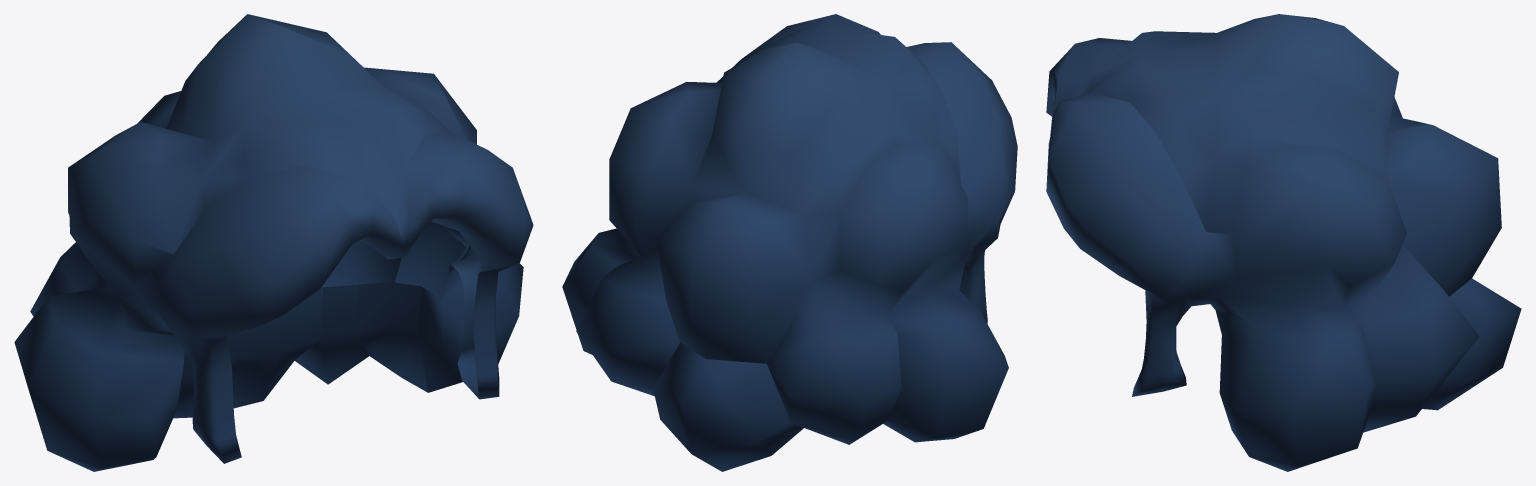
Rendered from Hair_Blue_17.fbx.
The picture shows the model from 3 angles, left to right: view 1: azimuth 30°, elevation 25°; view 2: azimuth 150°, elevation 25°; view 3: azimuth 270°, elevation 25°; orthographic projection. The views are drawn at different scales.
Visible parts, largest first — view 1: Hair_Blue_17; view 2: Hair_Blue_17; view 3: Hair_Blue_17.
Part boxes in pixels (bbox=[...]): Hair_Blue_17: bbox=[14, 14, 533, 471]; Hair_Blue_17: bbox=[562, 14, 1017, 471]; Hair_Blue_17: bbox=[1046, 14, 1521, 471].
Bounding box in the file's own units: 85.16 × 70.13 × 76.23.
